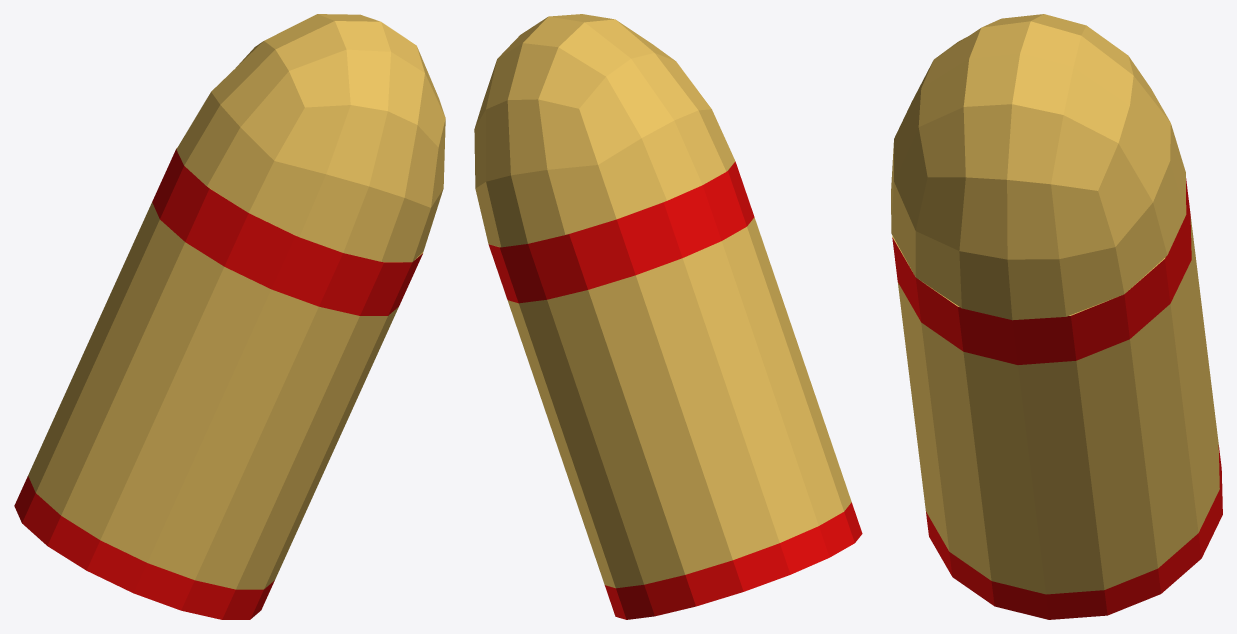
Rendered from gun_power_up (1).fbx.
The picture shows the model from 3 angles, left to right: view 1: azimuth 30°, elevation 25°; view 2: azimuth 150°, elevation 25°; view 3: azimuth 270°, elevation 25°; orthographic projection. The views are drawn at different scales.
Parts seen in each view (by area): view 1: Roundcube.002; view 2: Roundcube.002; view 3: Roundcube.002.
Part boxes in pixels (x1,y1,x2,y2): Roundcube.002: [14, 14, 445, 619]; Roundcube.002: [474, 14, 862, 619]; Roundcube.002: [891, 14, 1222, 619].
Bounding box in the file's own units: 169 × 241 × 113.
